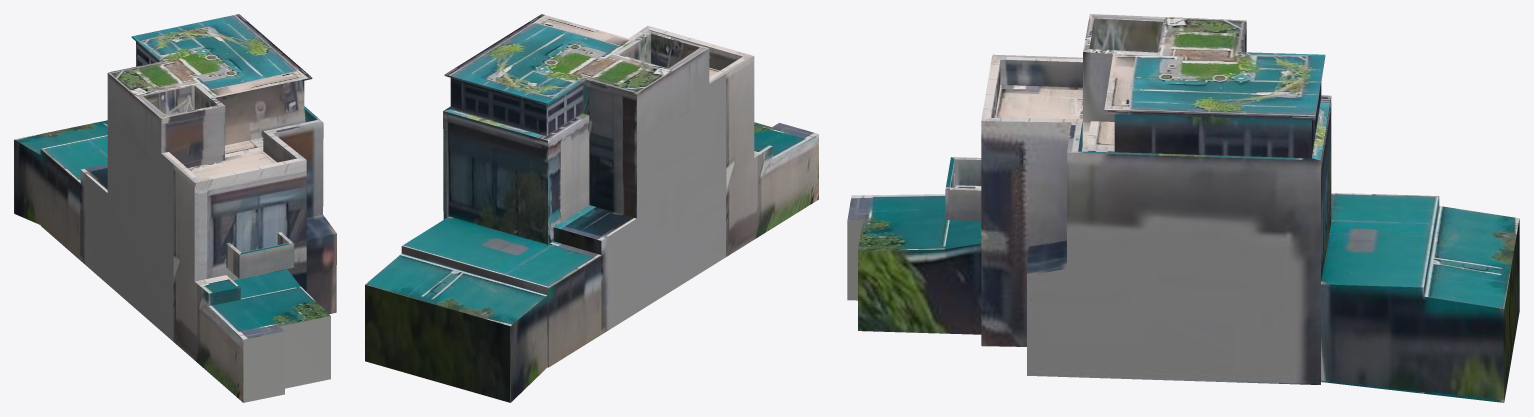
3 views of the same model, side by side, from view 1: azimuth 30°, elevation 25°; view 2: azimuth 150°, elevation 25°; view 3: azimuth 270°, elevation 25° (orthographic). The views are drawn at different scales.
Parts seen in each view (by area): view 1: B283604038601062A0; view 2: B283604038601062A0; view 3: B283604038601062A0.
Boxes of the visible parts, <box> form: B283604038601062A0: <box>14,14,336,402</box>; B283604038601062A0: <box>365,14,818,402</box>; B283604038601062A0: <box>847,14,1519,402</box>.
Bounding box in the file's own units: 10.35 × 12.24 × 26.22.
1 material, 1 textured.
